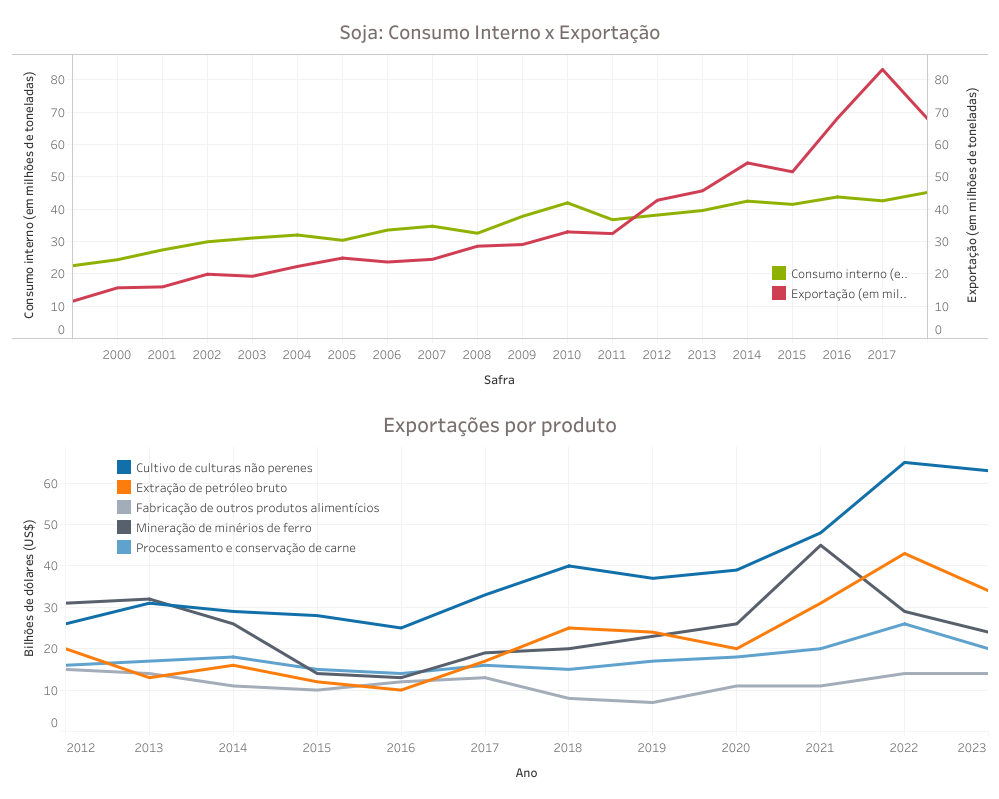

The dashboard page shown, as its layout file describes it:
{"tool":"tableau","page":{"name":"Exportação Agropecuária","canvas":[1000,800],"ordinal":1},"visuals":[{"type":"worksheet","title":"Perfil da soja","mark":"Automatic","rows":["Consumo interno (em milhões de toneladas)","Exportação (em milhões de toneladas)"],"cols":["Safra"],"box":[8,8,984,392]},{"type":"legend","title":"Perfil da soja","param":"[federated.0nc9a840ccqrva1cisc9t1n5tvum].[:Measure Names]","box":[769,263,143,59]},{"type":"worksheet","title":"Exportações","mark":"Line","cols":["Ano"],"box":[8,400,984,392]},{"type":"legend","title":"Exportações","param":"[federated.0cytw131rnbuhx1785hyf16szszw].[:Measure Names]","box":[114,457,292,137]}]}

Visuals, with their boxes in screenshot pixels (x1, y1, x2, y2), scaled from the page's 1000x800 canvas onto the 999x799 screenshot:
"Perfil da soja" worksheet: [x1=8, y1=8, x2=991, y2=400]
"Perfil da soja" legend: [x1=768, y1=263, x2=911, y2=322]
"Exportações" worksheet (Line marks): [x1=8, y1=400, x2=991, y2=791]
"Exportações" legend: [x1=114, y1=456, x2=406, y2=593]
